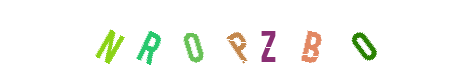B: (241, 0, 321, 80)
N: (70, 0, 150, 80)
O: (187, 0, 267, 80), (324, 0, 404, 80)
P: (198, 0, 278, 80)
R: (140, 0, 220, 80)
Z: (228, 0, 308, 80)
